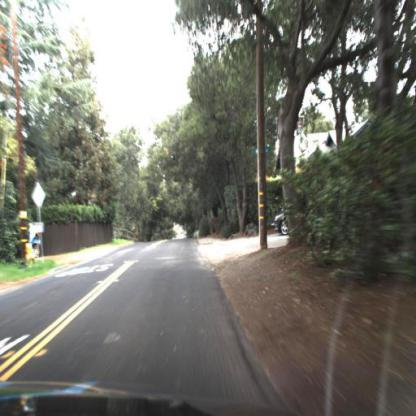car: (274, 206, 296, 236)
